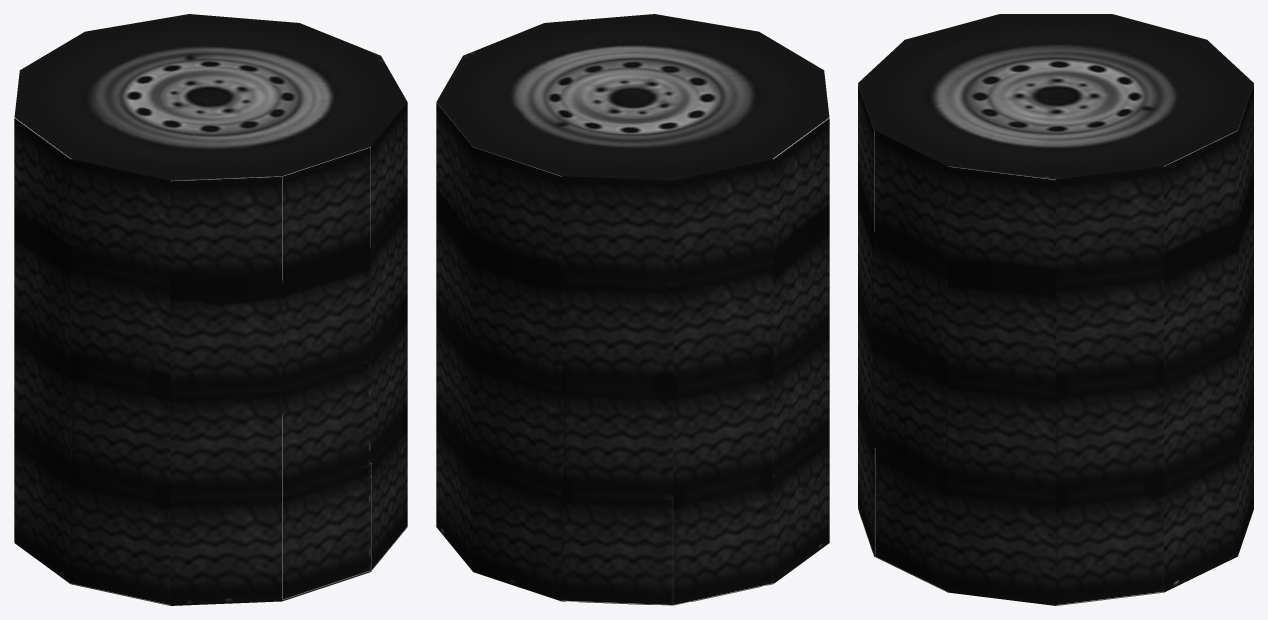
The model's file is Tires.FBX.
3 renders of one model, left to right at view 1: azimuth 30°, elevation 25°; view 2: azimuth 150°, elevation 25°; view 3: azimuth 270°, elevation 25°, orthographic.
Visible parts, largest first — view 1: Tires; view 2: Tires; view 3: Tires.
Part boxes in pixels (x1,y1,x2,y2): Tires: (14, 14, 407, 605); Tires: (436, 14, 829, 605); Tires: (858, 14, 1253, 605).
Size of the model in its own units: 0.6662 by 0.8 by 0.6731.
